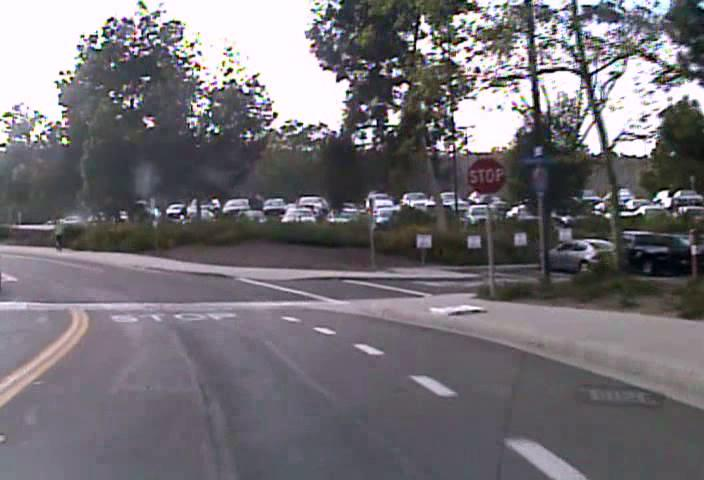stop: (466, 155, 507, 196)
